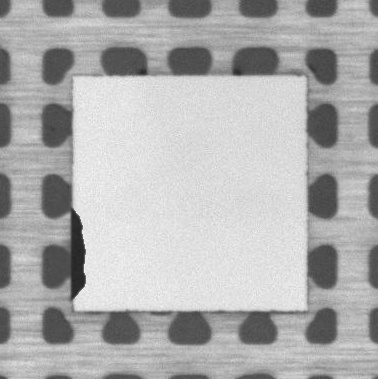DIE_BROKEN: (68, 207, 88, 301)
